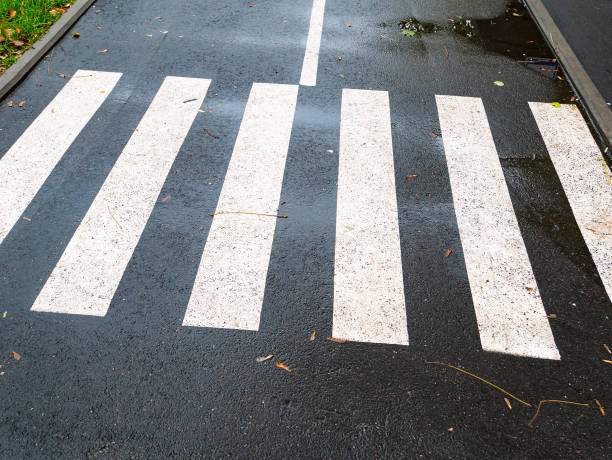zebracross: (31, 71, 565, 364)
